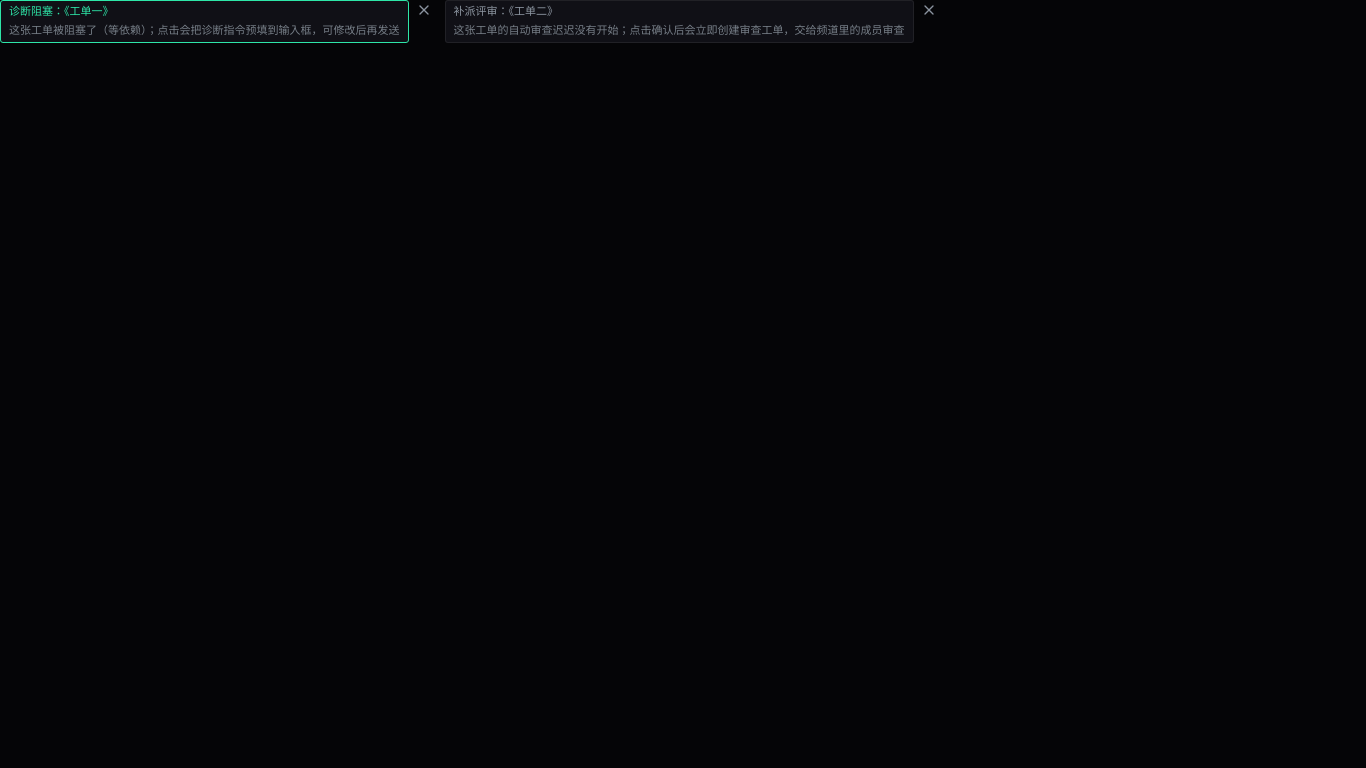
Test: ChannelGuidance — P3-b 引导片区 › 动作执行失败：原因内联进弹窗不静默，弹窗保持打开可重试
Click the button "补派评审：《工单二》". click: (679, 21)
box: [444, 0, 914, 43]
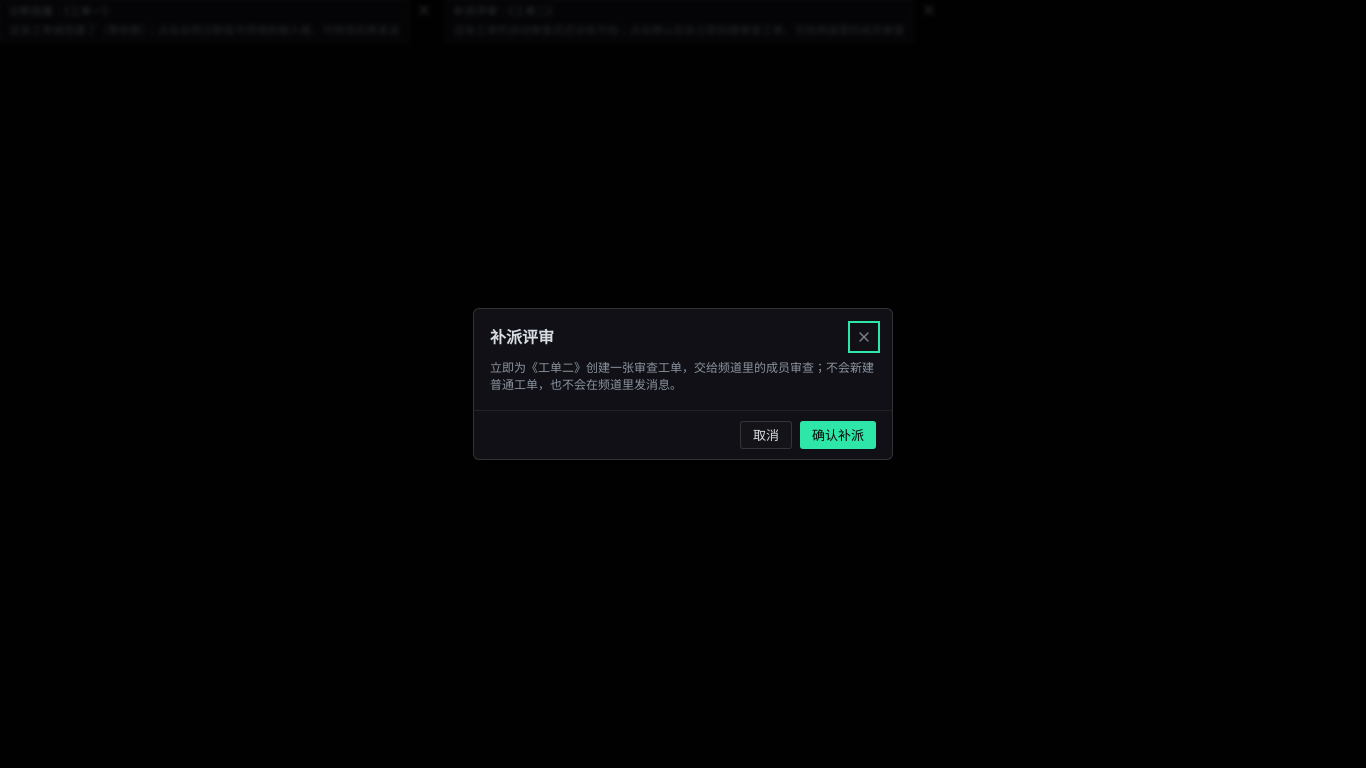
Click the button "确认补派". click: (838, 435)
box: [800, 420, 876, 449]
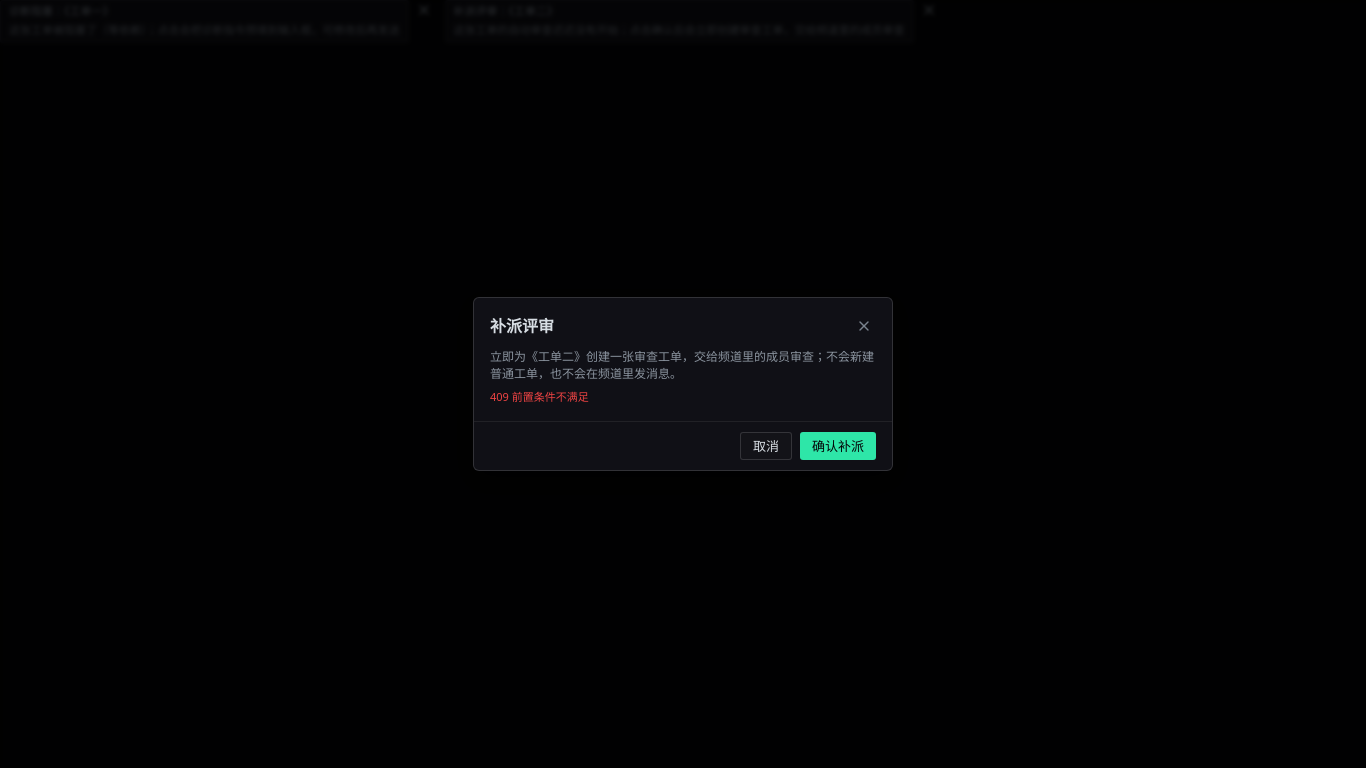
Check: the dialog is shown, box [473, 297, 893, 471]
Check: the text "409 前置条件不满足" is shown, box [490, 389, 589, 404]
